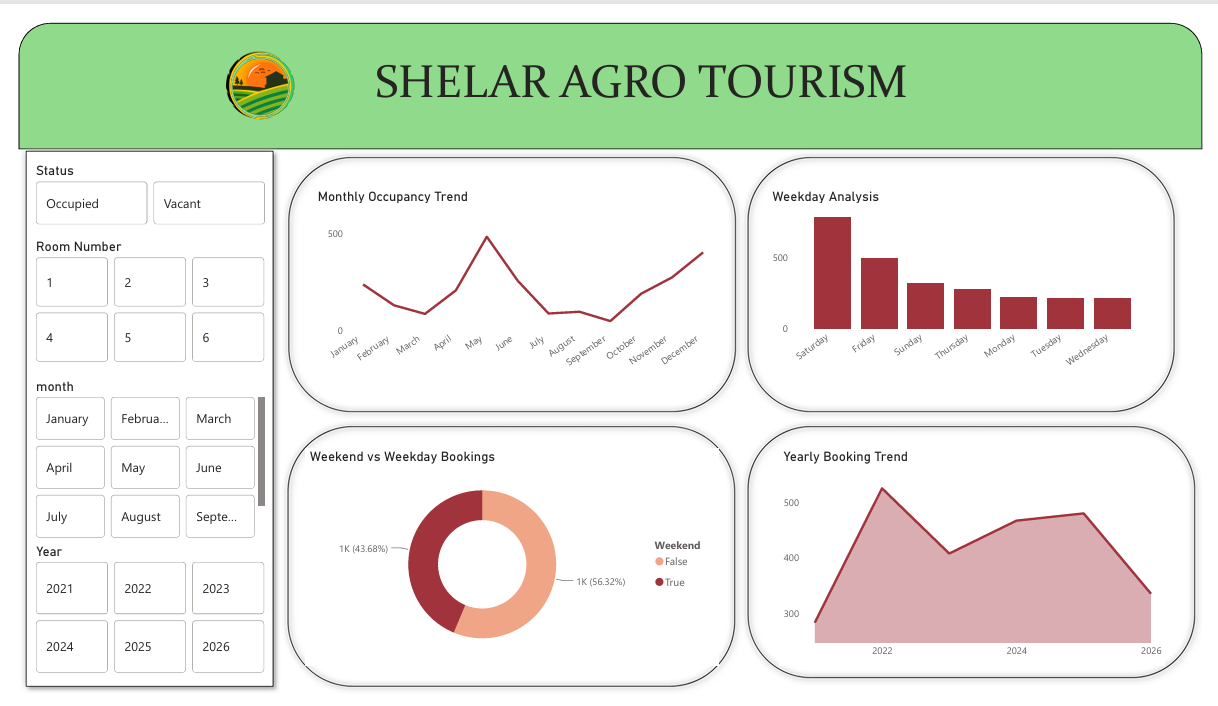

The page's visual inventory and layout, read from the dashboard file:
{"tool":"powerbi","page":{"name":"Seasonal Analysis","canvas":[1500,850],"ordinal":3},"visuals":[{"type":"shape","box":[0,0,1499.9,160.2],"z":0},{"type":"textbox","box":[332,33.2,913.8,93.8],"z":1000},{"type":"image","box":[216.5,7.2,174.7,145.8],"z":2000},{"type":"shape","box":[0,153,332,697.3],"z":3000},{"type":"shape","box":[331.8,501.5,584.8,348.5],"z":4000},{"type":"shape","box":[333.3,160.6,584.8,340.9],"z":5000},{"type":"shape","box":[915.2,160.6,559.1,340.9],"z":6000},{"type":"shape","box":[915.2,501.5,584.8,337.9],"z":7000},{"type":"lineChart","title":"Monthly Occupancy Trend","fields":{"Y":["hotelbookings booking.Occupied Rooms"],"Category":["hotelbookings booking.month"]},"box":[374.2,209.1,513.6,248.5],"z":8000},{"type":"clusteredColumnChart","title":"Weekday Analysis","fields":{"Y":["hotelbookings booking.Occupied Rooms"],"Category":["hotelbookings booking.weekday"]},"box":[950,209.1,489.4,248.5],"z":9000},{"type":"donutChart","title":"Weekend vs Weekday Bookings","fields":{"Y":["hotelbookings booking.Total Bookings"],"Category":["hotelbookings booking.is_weekend"]},"box":[363.6,539.4,524.2,274.2],"z":10000},{"type":"areaChart","title":"Yearly Booking Trend","fields":{"Category":["hotelbookings booking.year"],"Y":["hotelbookings booking.Total Bookings"]},"box":[963.6,539.4,489.4,274.2],"z":11000},{"type":"advancedSlicerVisual","fields":{"Values":["hotelbookings booking.year"]},"box":[16.7,659.1,300,169.7],"z":12000},{"type":"advancedSlicerVisual","fields":{"Values":["hotelbookings booking.month"]},"box":[16.7,450,300,209.1],"z":13000},{"type":"advancedSlicerVisual","fields":{"Values":["hotelbookings booking.status"]},"box":[16.7,177.3,300,83.3],"z":14000},{"type":"advancedSlicerVisual","fields":{"Values":["hotelbookings booking.room_no"]},"box":[16.7,272.7,300,163.6],"z":15000}]}

Visuals, with their boxes in screenshot pixels (x1, y1, x2, y2), scaled from the page's 1500x850 canvas onto the 1218x706 screenshot:
shape: x1=0, y1=0, x2=1217, y2=133
textbox: x1=270, y1=28, x2=1012, y2=105
image: x1=176, y1=6, x2=318, y2=127
shape: x1=0, y1=127, x2=270, y2=705
shape: x1=269, y1=417, x2=744, y2=705
shape: x1=271, y1=133, x2=745, y2=417
shape: x1=743, y1=133, x2=1197, y2=417
shape: x1=743, y1=417, x2=1217, y2=697
"Monthly Occupancy Trend" lineChart: x1=304, y1=174, x2=721, y2=380
"Weekday Analysis" clusteredColumnChart: x1=771, y1=174, x2=1169, y2=380
"Weekend vs Weekday Bookings" donutChart: x1=295, y1=448, x2=721, y2=676
"Yearly Booking Trend" areaChart: x1=782, y1=448, x2=1180, y2=676
advancedSlicerVisual - hotelbookings booking.year: x1=14, y1=547, x2=257, y2=688
advancedSlicerVisual - hotelbookings booking.month: x1=14, y1=374, x2=257, y2=547
advancedSlicerVisual - hotelbookings booking.status: x1=14, y1=147, x2=257, y2=216
advancedSlicerVisual - hotelbookings booking.room_no: x1=14, y1=227, x2=257, y2=362
